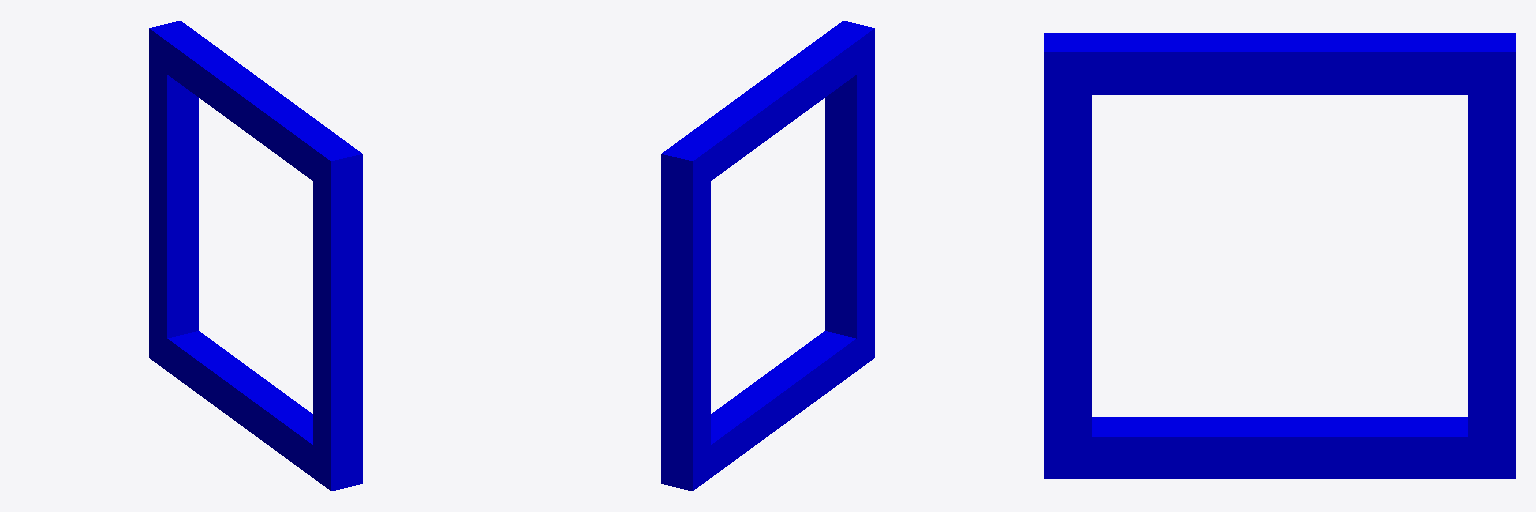
robot.urdf — gate:
<?xml version="1.0" ?>

<robot name="gate">

  <link name="base_link">
    <inertial>
      <origin rpy="0 0 0" xyz="0 0 0"/>
      <mass value="1.0"/>
      <inertia ixx="0.001" ixy="0.0" ixz="0.0" iyy="0.001" iyz="0.0" izz="0.001"/>
    </inertial>
    <visual>
      <origin rpy="0 1.57 0" xyz="0 0 0"/>
      <geometry>
        <mesh filename="../stl/gate.stl" scale="0.0008 0.0008 0.0008"/>
      </geometry>
      <material name="blue">
        <color rgba="0.0 0.0 1.0 1"/>
      </material>
    </visual>
    <collision>
      <origin rpy="0 0 0" xyz="0 0.35 0"/>
      <geometry>
        <box size="0.1 0.1 0.8"/>
      </geometry>
    </collision>
    <collision>
      <origin rpy="0 0 0" xyz="0 -0.35 0"/>
      <geometry>
        <box size="0.1 0.1 0.8"/>
      </geometry>
    </collision>
    <collision>
      <origin rpy="0 0 0" xyz="0 0 0.35"/>
      <geometry>
        <box size="0.1 0.6 0.1"/>
      </geometry>
    </collision>
    <collision>
      <origin rpy="0 0 0" xyz="0 0 -0.35"/>
      <geometry>
        <box size="0.1 0.6 0.1"/>
      </geometry>
    </collision>
  </link>

</robot>

--- What the picture shows (computed from the rendered views, not written in the file) ---
The picture shows the robot from 3 angles, left to right: view 1: azimuth 30°, elevation 25°; view 2: azimuth 150°, elevation 25°; view 3: azimuth 270°, elevation 25°; orthographic projection.
Robot: gate — 1 links, 0 joints (none); root link base_link; default pose: all joints at 0.
Visible links, largest first — view 1: base_link; view 2: base_link; view 3: base_link.
Link boxes in pixels (x1,y1,x2,y2): base_link: (149, 21, 362, 490); base_link: (661, 21, 874, 490); base_link: (1044, 33, 1515, 478).
Size in the robot's own frame: 0.0806 by 0.8 by 0.8001 metres.
Meshes: 1 distinct files referenced, 1 mesh visuals loaded (1 binary STL).
